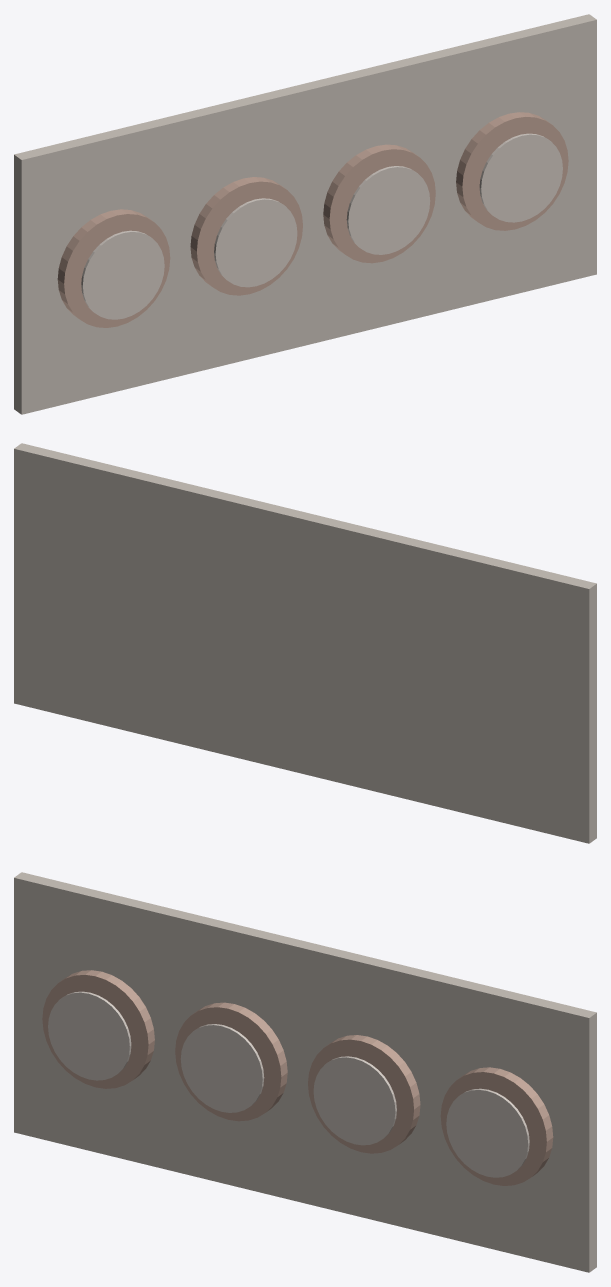
Rendered from wound-samples-high.glb.
3 views of the same model, one above another, from view 1: azimuth 30°, elevation 25°; view 2: azimuth 150°, elevation 25°; view 3: azimuth 330°, elevation 25° (orthographic).
Parts seen in each view (by area): view 1: sample_board, edge_marker_4, edge_marker_1, edge_marker_2, edge_marker_3, skin_sample_3, skin_sample_1, skin_sample_4, skin_sample_2; view 2: sample_board; view 3: sample_board, edge_marker_1, edge_marker_4, edge_marker_3, edge_marker_2, skin_sample_2, skin_sample_4, skin_sample_1, skin_sample_3.
Part boxes in pixels (x1,y1,x2,y2): sample_board: [14, 14, 596, 414]; edge_marker_4: [479, 133, 562, 222]; edge_marker_1: [81, 230, 164, 319]; edge_marker_2: [214, 198, 297, 287]; edge_marker_3: [346, 166, 430, 254]; skin_sample_3: [323, 144, 435, 263]; skin_sample_1: [57, 209, 170, 327]; skin_sample_4: [456, 112, 568, 230]; skin_sample_2: [190, 177, 302, 295]; sample_board: [14, 443, 596, 843]; sample_board: [14, 872, 596, 1272]; edge_marker_1: [48, 991, 131, 1080]; edge_marker_4: [446, 1088, 529, 1177]; edge_marker_3: [313, 1056, 396, 1145]; edge_marker_2: [180, 1024, 264, 1112]; skin_sample_2: [175, 1002, 287, 1121]; skin_sample_4: [440, 1067, 553, 1185]; skin_sample_1: [42, 970, 154, 1088]; skin_sample_3: [308, 1035, 420, 1153].
Size of the model in its own units: 5.2 by 2.2 by 0.3325.
